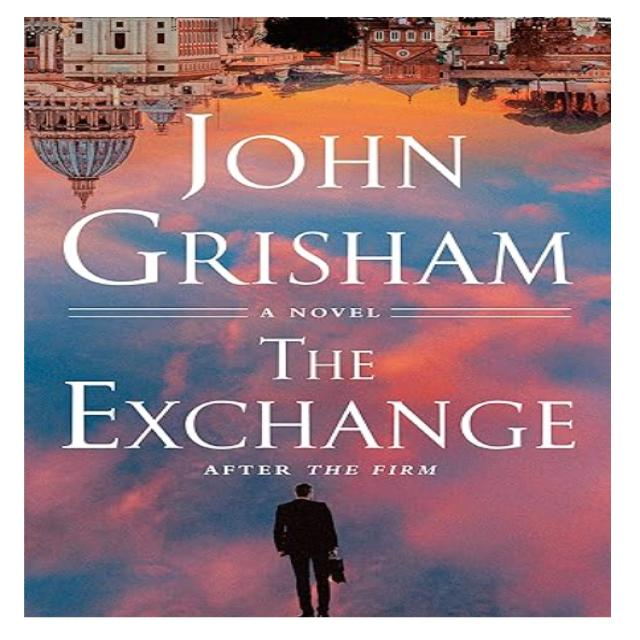titles-or-authors: (54, 106, 594, 297), (52, 330, 594, 459)
